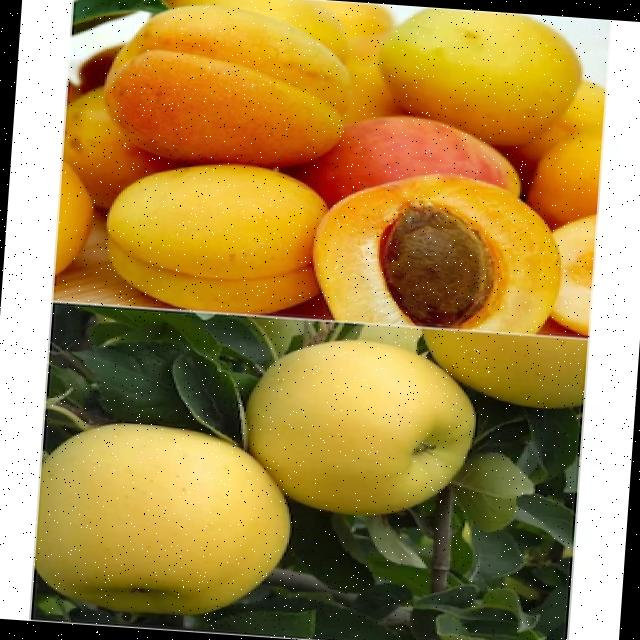Cekirdek: (381, 203, 493, 324)
Kayisi: (107, 165, 326, 312)
Yaprak: (451, 453, 531, 531)
